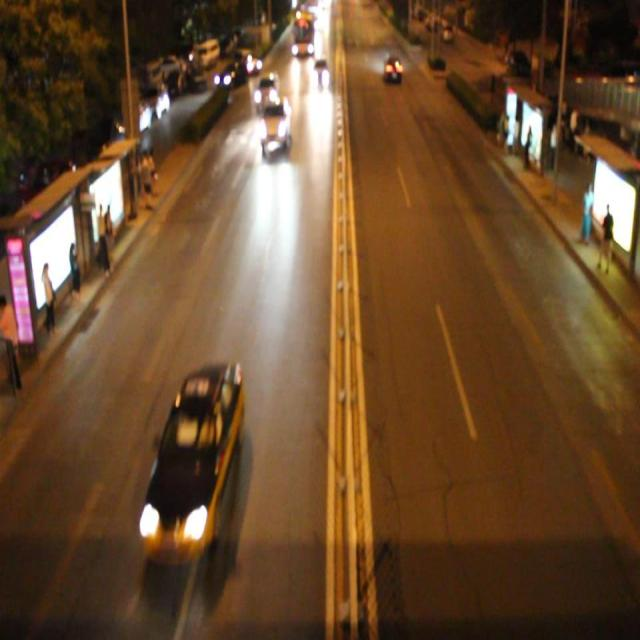car: (140, 361, 243, 562), (259, 94, 292, 152), (254, 70, 280, 111), (382, 52, 403, 84)
truck: (310, 54, 330, 91)
